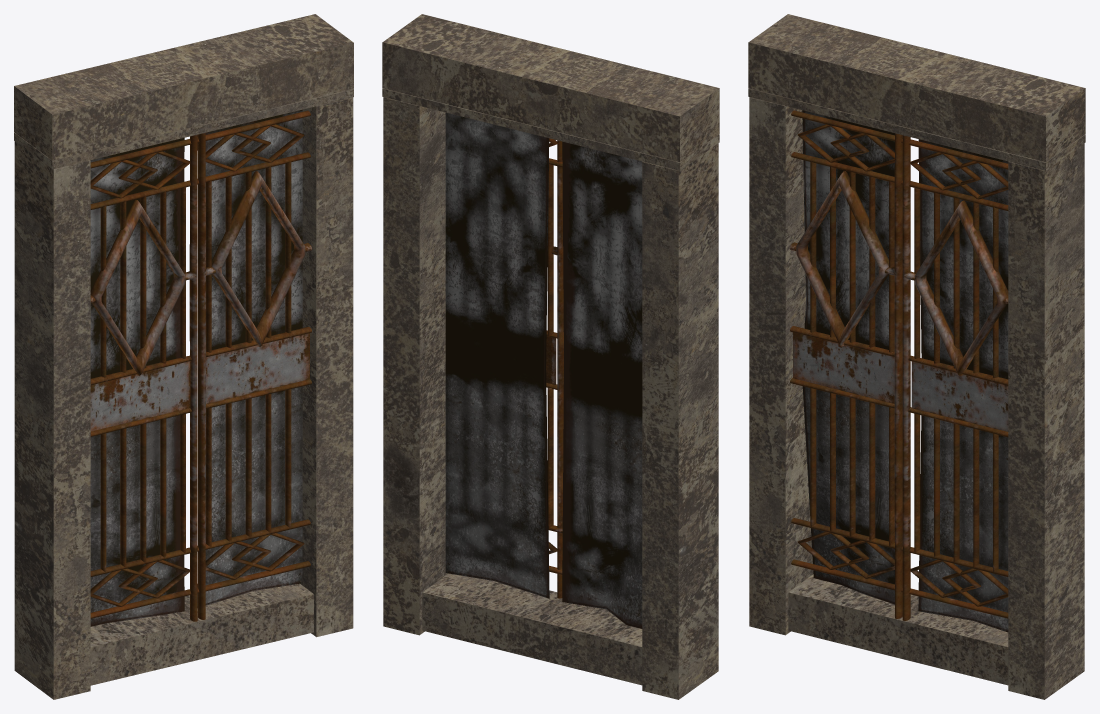
Rendered from MetalDoor.fbx.
3 renders of one model, left to right at view 1: azimuth 30°, elevation 25°; view 2: azimuth 150°, elevation 25°; view 3: azimuth 330°, elevation 25°, orthographic.
Parts seen in each view (by area): view 1: Metal Rock Door.001; view 2: Metal Rock Door.001; view 3: Metal Rock Door.001.
Boxes of the visible parts, bbox=[...] form: Metal Rock Door.001: bbox=[14, 14, 353, 699]; Metal Rock Door.001: bbox=[382, 14, 719, 699]; Metal Rock Door.001: bbox=[748, 14, 1085, 699].
Bounding box in the file's own units: 1.86 × 3.45 × 0.4411.
1 material, 1 textured.
